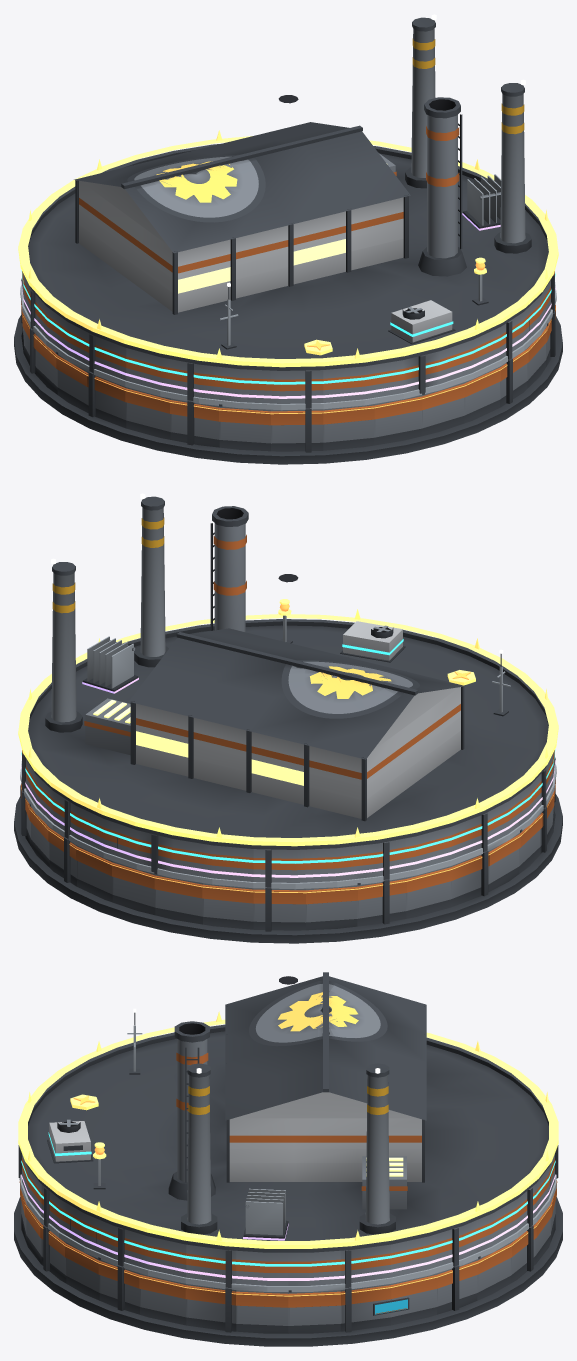
File: refinery_m.glb
The picture shows the model from 3 angles, top to bottom: view 1: azimuth 30°, elevation 25°; view 2: azimuth 150°, elevation 25°; view 3: azimuth 270°, elevation 25°; orthographic projection.
Visible parts, largest first — view 1: Roof, Base, Wall_21, Wall_20, Wall_22, Wall_19, L3, Wall_23, Wall_18, Wall_24, L4, Wall_17 (+22 smaller); view 2: Roof, Base, L4, Wall_10, Wall_11, Wall_09, Wall_12, Wall_08, L3, Wall_13, Wall_07, Wall_14 (+20 smaller); view 3: Roof, Base, Wall_00, Wall_31, Wall_30, L4, Wall_29, Wall_01, Wall_02, Wall_28, Wall_03, L3 (+24 smaller).
Boxes of the visible parts, left/top/right/bottom form: Roof: left=23, top=14, right=552, bottom=370; Base: left=14, top=315, right=562, bottom=464; Wall_21: left=271, top=408, right=323, bottom=452; Wall_20: left=219, top=404, right=270, bottom=451; Wall_22: left=323, top=404, right=374, bottom=450; Wall_19: left=170, top=398, right=219, bottom=447; L3: left=388, top=300, right=455, bottom=344; Wall_23: left=374, top=395, right=422, bottom=445; Wall_18: left=125, top=387, right=170, bottom=439; Wall_24: left=421, top=382, right=465, bottom=436; L4: left=462, top=174, right=501, bottom=230; Wall_17: left=87, top=371, right=126, bottom=428; Roof: left=24, top=493, right=553, bottom=849; Base: left=14, top=794, right=562, bottom=943; L4: left=82, top=636, right=138, bottom=693; Wall_10: left=253, top=887, right=305, bottom=931; Wall_11: left=306, top=885, right=357, bottom=930; Wall_09: left=202, top=883, right=253, bottom=929; Wall_12: left=357, top=877, right=406, bottom=926; Wall_08: left=154, top=872, right=202, bottom=924; L3: left=340, top=621, right=405, bottom=662; Wall_13: left=406, top=866, right=451, bottom=918; Wall_07: left=111, top=861, right=155, bottom=915; Wall_14: left=450, top=850, right=489, bottom=907; Roof: left=26, top=972, right=550, bottom=1252; Base: left=14, top=1197, right=562, bottom=1346; Wall_00: left=288, top=1290, right=340, bottom=1333; Wall_31: left=236, top=1290, right=288, bottom=1333; Wall_30: left=185, top=1284, right=236, bottom=1332; L4: left=243, top=1188, right=288, bottom=1240; Wall_29: left=139, top=1273, right=186, bottom=1325; Wall_01: left=340, top=1284, right=391, bottom=1332; Wall_02: left=390, top=1273, right=437, bottom=1325; Wall_28: left=98, top=1257, right=139, bottom=1314; Wall_03: left=437, top=1259, right=478, bottom=1314; L3: left=47, top=1119, right=93, bottom=1163.
Size of the model in its own units: 14.75 by 7.59 by 14.75.
